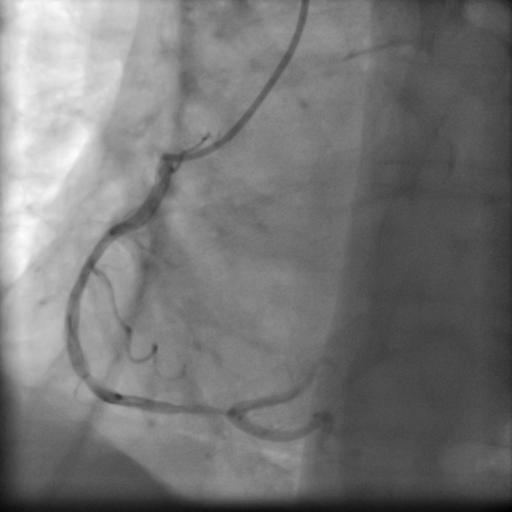Stenosis: (170, 400, 229, 424)
